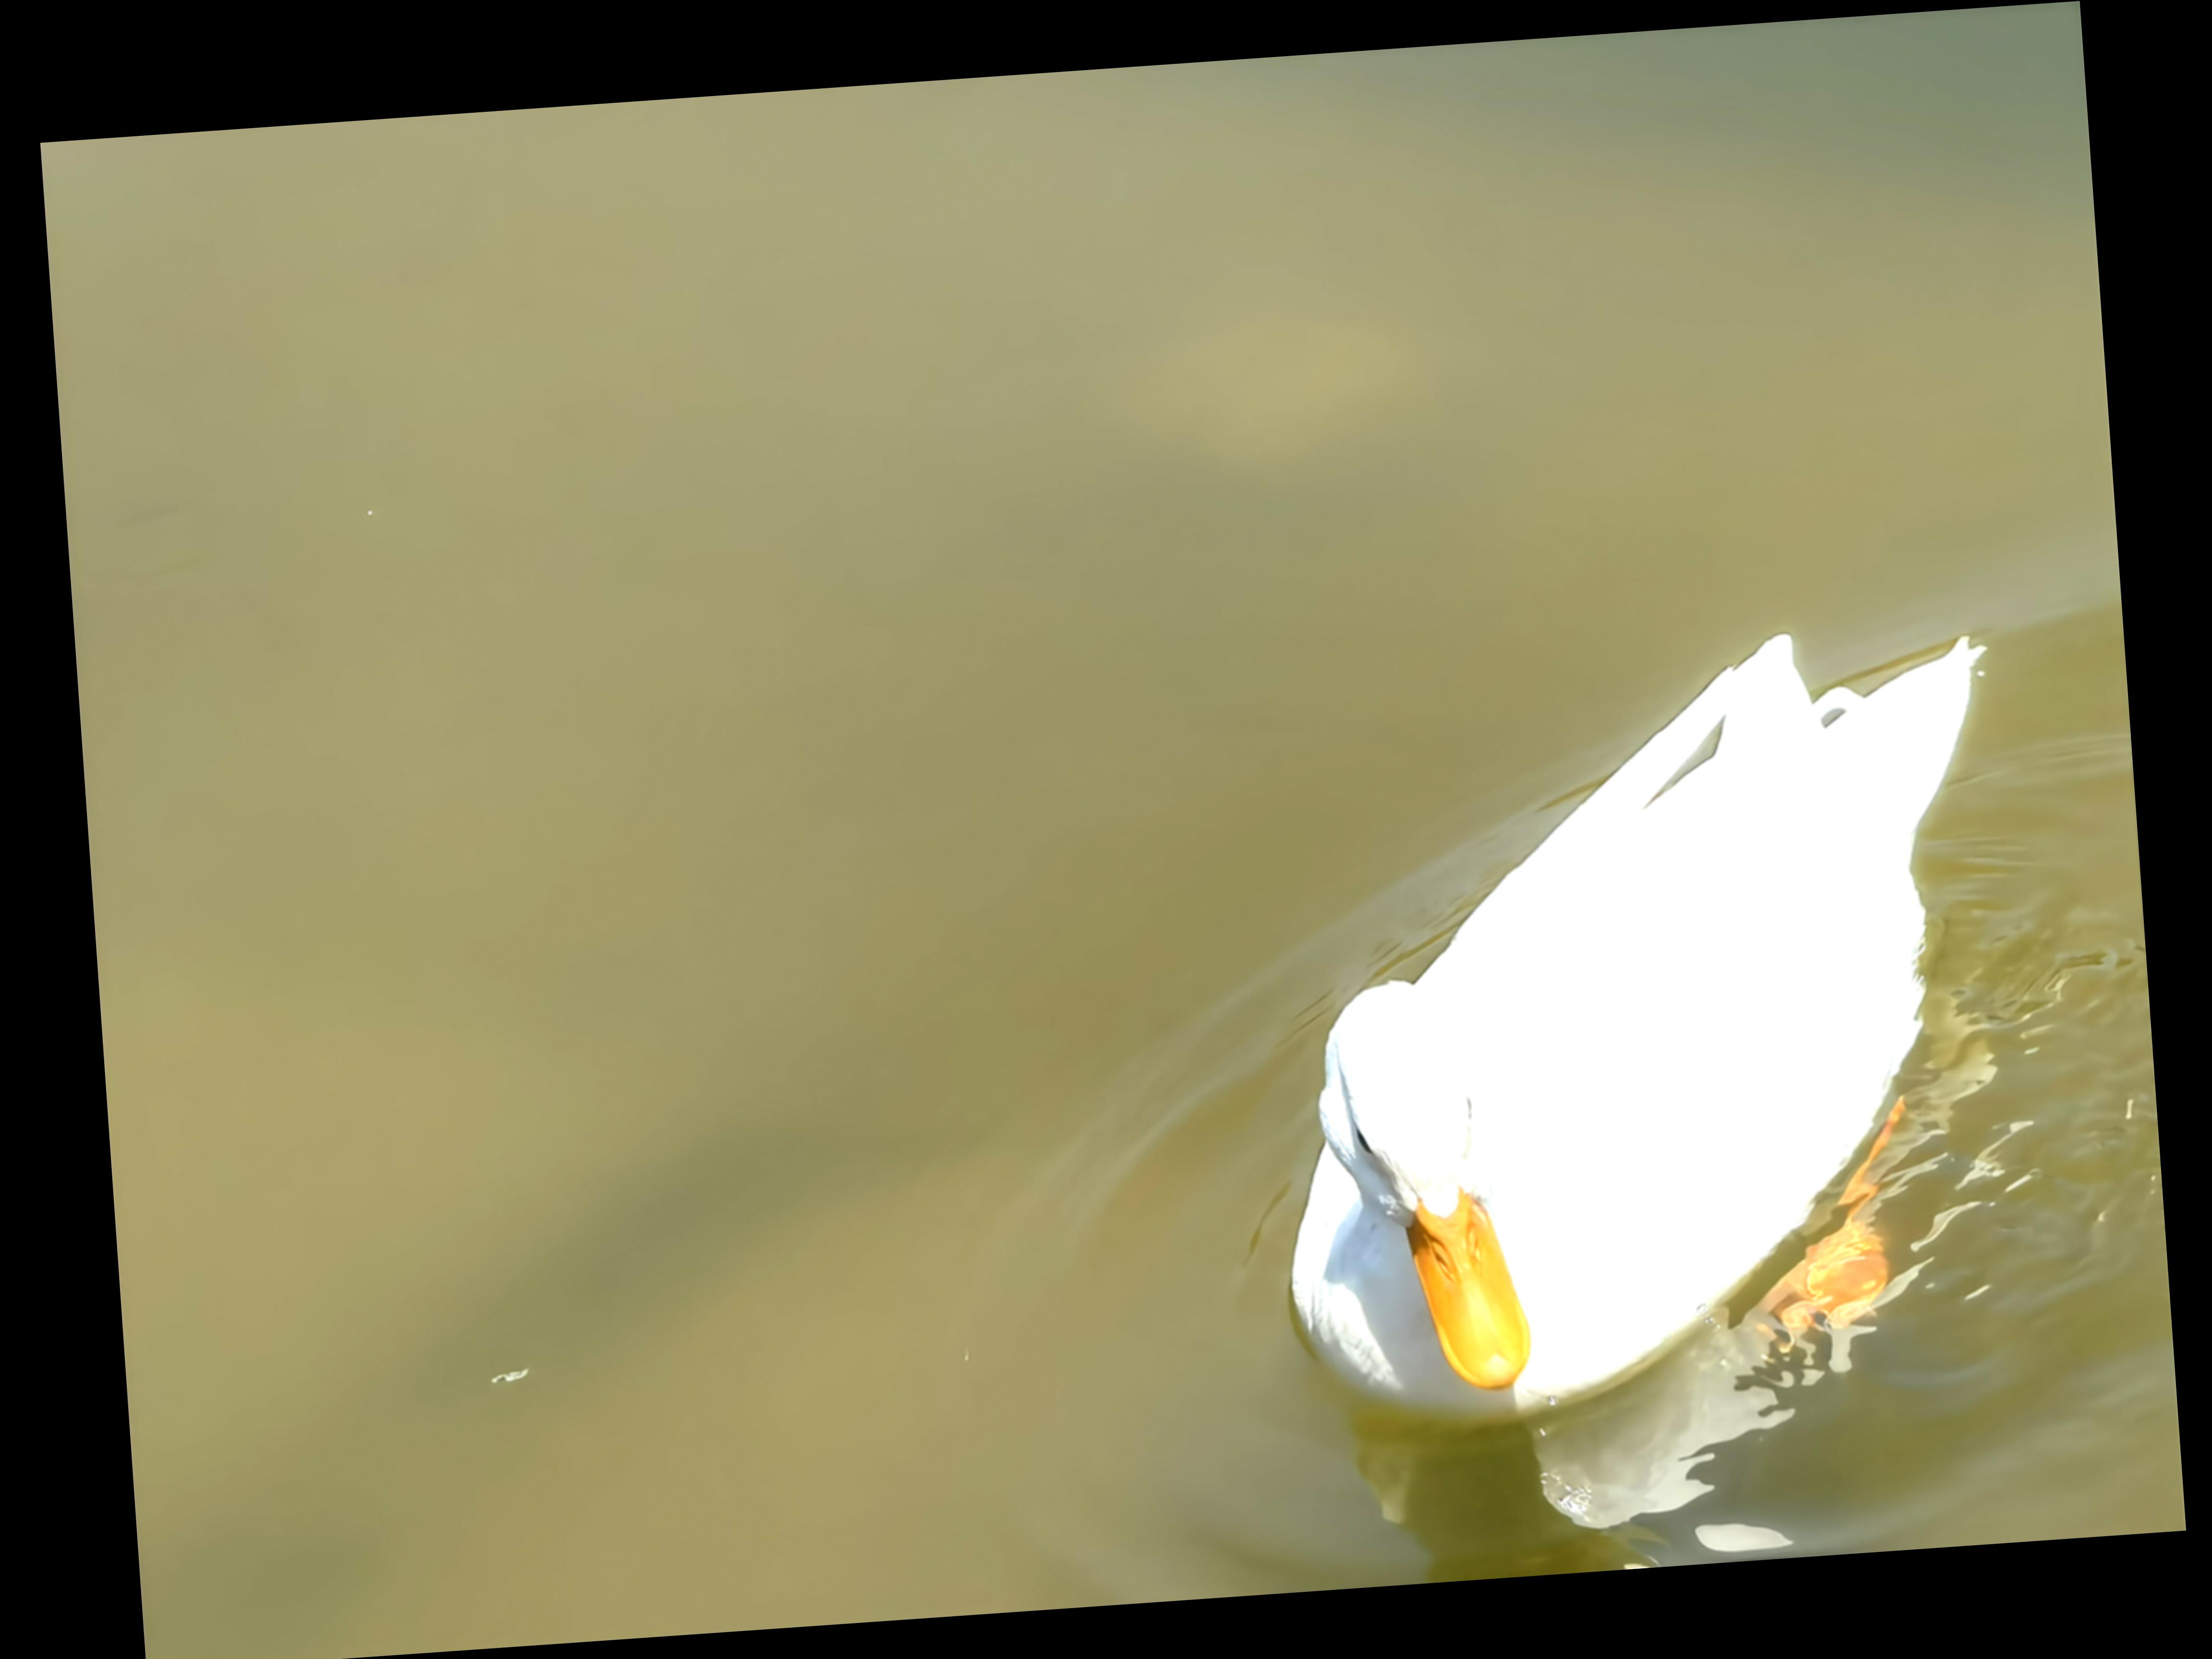duck: (1198, 594, 2078, 1481)
